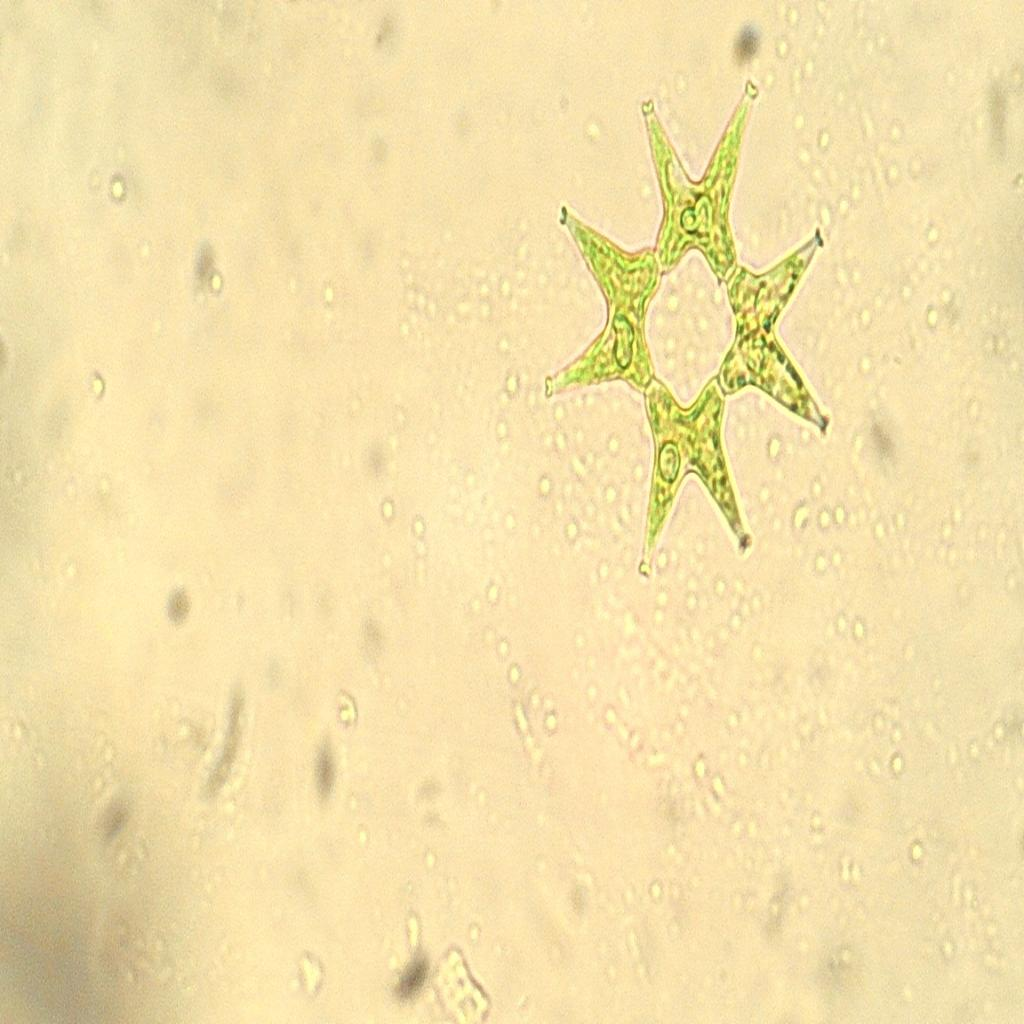Pediastrum_CO: (533, 77, 849, 583)
